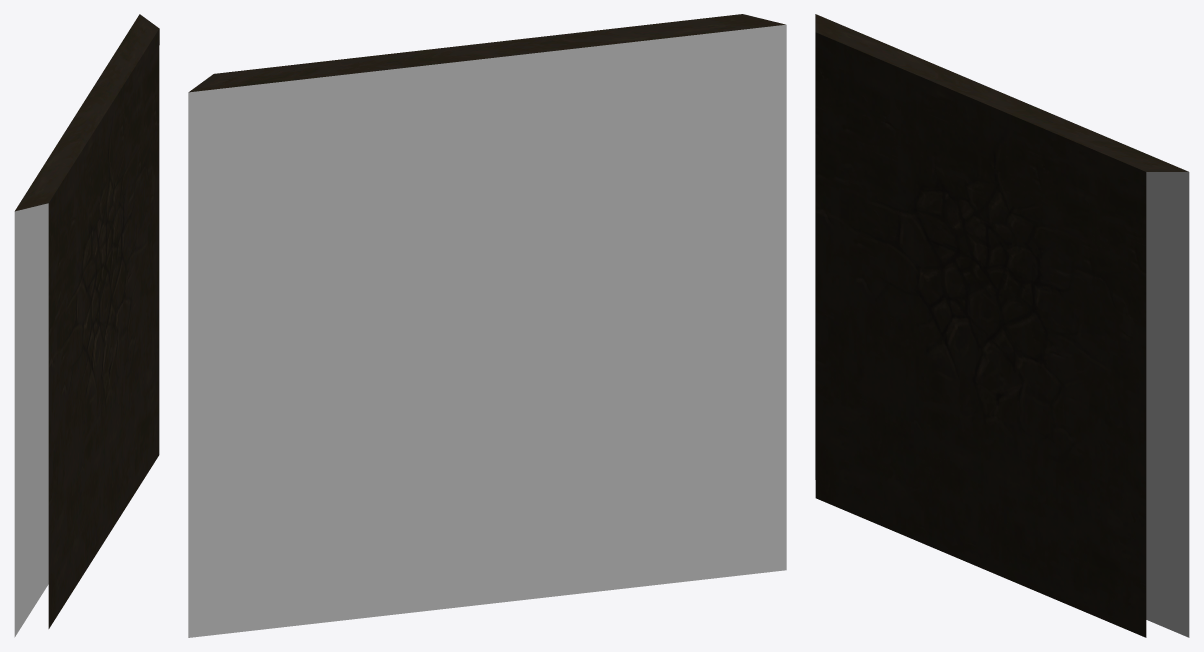
File: fortress_wall_diagonal_03_c.fbx
The picture shows the model from 3 angles, left to right: view 1: azimuth 30°, elevation 25°; view 2: azimuth 150°, elevation 25°; view 3: azimuth 270°, elevation 25°; orthographic projection. The views are drawn at different scales.
Visible parts, largest first — view 1: fortress_wall_diagonal_03_c-0; view 2: fortress_wall_diagonal_03_c-0; view 3: fortress_wall_diagonal_03_c-0.
Boxes of the visible parts, bbox=[...] form: fortress_wall_diagonal_03_c-0: bbox=[14, 14, 159, 637]; fortress_wall_diagonal_03_c-0: bbox=[188, 14, 786, 637]; fortress_wall_diagonal_03_c-0: bbox=[815, 14, 1189, 637].
Size of the model in its own units: 4 by 5.5 by 4.
